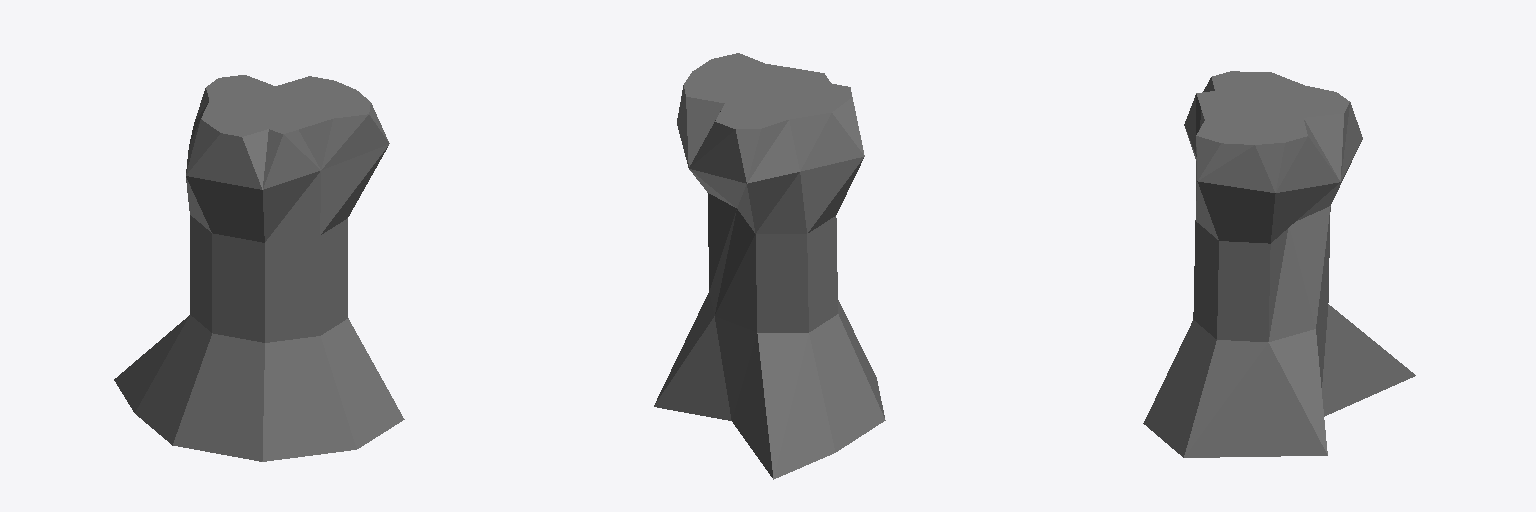
File: Rock_column_001.obj
3 views of the same model, side by side, from view 1: azimuth 30°, elevation 25°; view 2: azimuth 150°, elevation 25°; view 3: azimuth 270°, elevation 25° (orthographic).
Parts seen in each view (by area): view 1: polySurface15 polySurface14 polySurface6 polySurface4 polySurfac; view 2: polySurface15 polySurface14 polySurface6 polySurface4 polySurfac; view 3: polySurface15 polySurface14 polySurface6 polySurface4 polySurfac.
Boxes of the visible parts, <box> form: polySurface15 polySurface14 polySurface6 polySurface4 polySurfac: <box>114,75,404,461</box>; polySurface15 polySurface14 polySurface6 polySurface4 polySurfac: <box>654,53,885,479</box>; polySurface15 polySurface14 polySurface6 polySurface4 polySurfac: <box>1143,71,1415,457</box>.
Bounding box in the file's own units: 197 × 291 × 232.